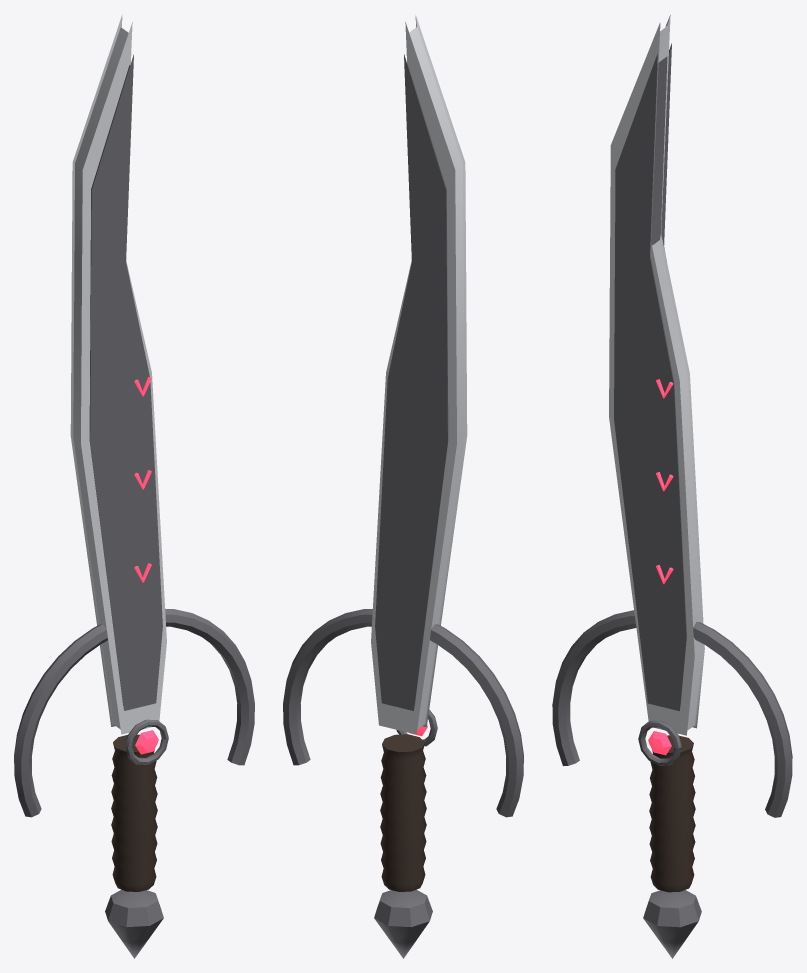
The model's file is artisan_moon_hook_sword.glb.
3 renders of one model, left to right at view 1: azimuth 30°, elevation 25°; view 2: azimuth 150°, elevation 25°; view 3: azimuth 330°, elevation 25°, orthographic.
Parts seen in each view (by area): view 1: artisan_moon_hook_sword; view 2: artisan_moon_hook_sword; view 3: artisan_moon_hook_sword.
Part boxes in pixels (x1=…): artisan_moon_hook_sword: x1=14, y1=15, x2=254, y2=958; artisan_moon_hook_sword: x1=283, y1=15, x2=523, y2=958; artisan_moon_hook_sword: x1=552, y1=14, x2=792, y2=958.
Size of the model in its own units: 0.2994 by 1.13 by 0.0694.
